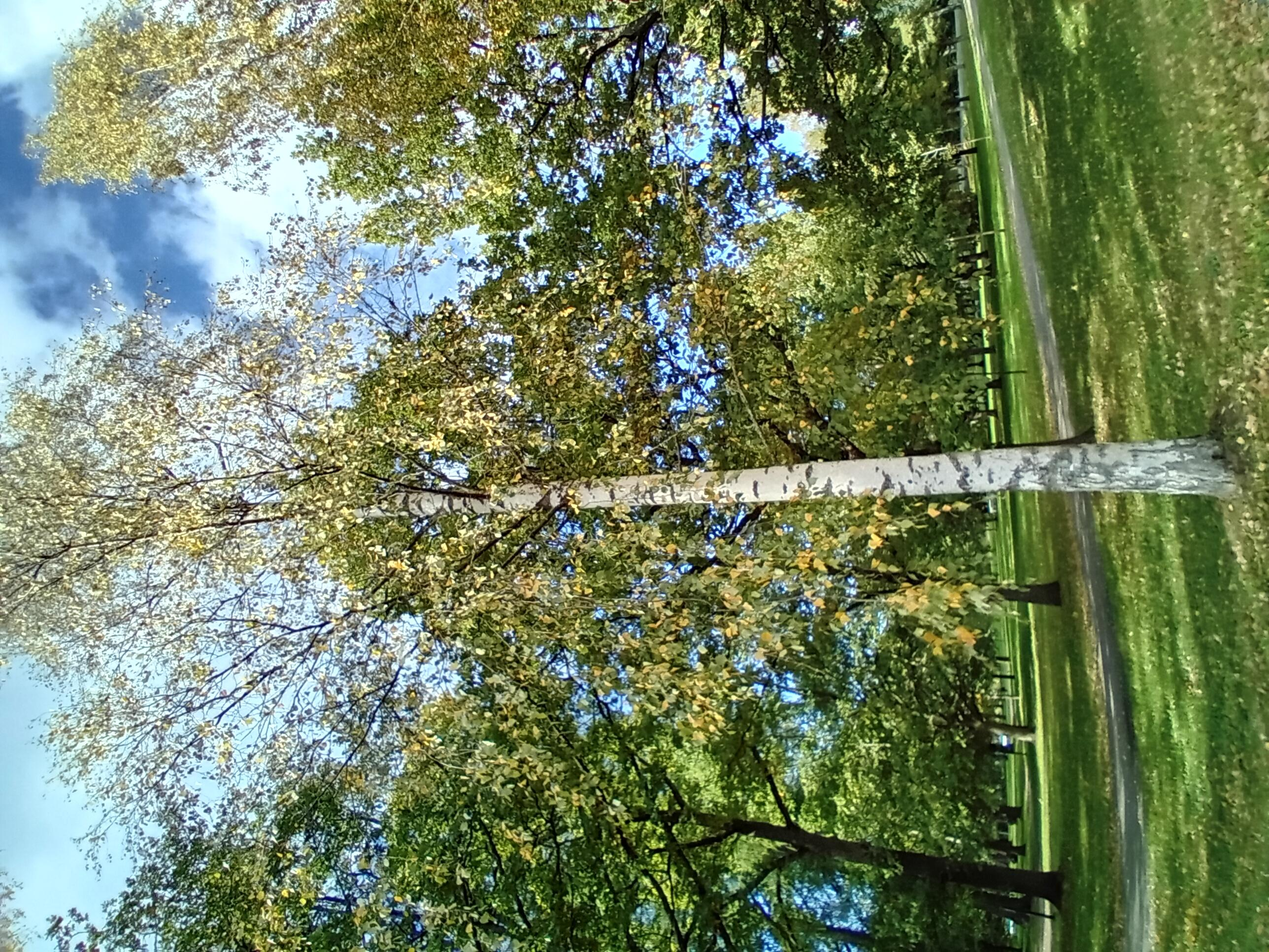Birch: (116, 1, 1006, 930)
